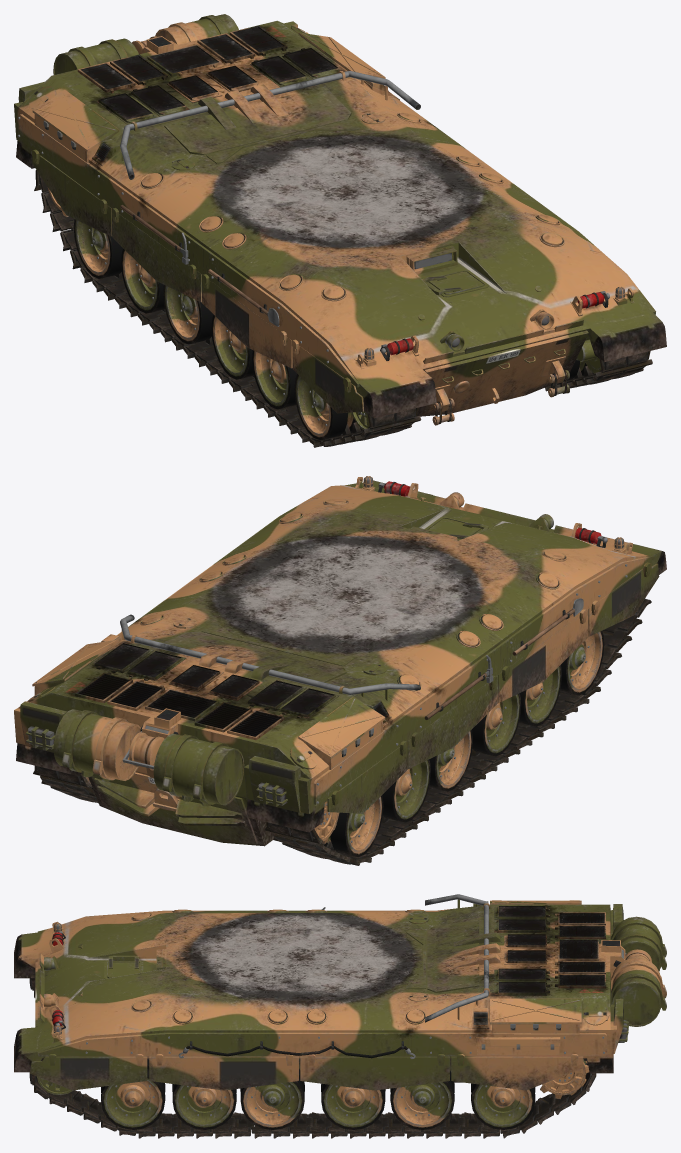
The model's file is tank_hull.glb.
3 renders of one model, top to bottom at view 1: azimuth 30°, elevation 25°; view 2: azimuth 150°, elevation 25°; view 3: azimuth 270°, elevation 25°, orthographic. The views are drawn at different scales.
Parts seen in each view (by area): view 1: chassis_chassiss_0, schraube39_laufenwerk_0, kette63_kedde1_0; view 2: chassis_chassiss_0, schraube39_laufenwerk_0, kette63_kedde1_0; view 3: chassis_chassiss_0, schraube39_laufenwerk_0, kette63_kedde1_0.
Boxes of the visible parts, <box> form: chassis_chassiss_0: <box>14,14,666,425</box>; schraube39_laufenwerk_0: <box>47,187,601,439</box>; kette63_kedde1_0: <box>31,164,652,447</box>; chassis_chassiss_0: <box>14,476,666,846</box>; schraube39_laufenwerk_0: <box>48,620,623,856</box>; kette63_kedde1_0: <box>33,598,651,865</box>; chassis_chassiss_0: <box>14,894,666,1090</box>; schraube39_laufenwerk_0: <box>37,1058,589,1129</box>; kette63_kedde1_0: <box>29,972,596,1138</box>.
Bounding box in the file's own units: 4.19 × 2.1 × 9.1.
3 materials, 3 textured.
